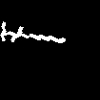double_crochet: (1, 22, 64, 42)
